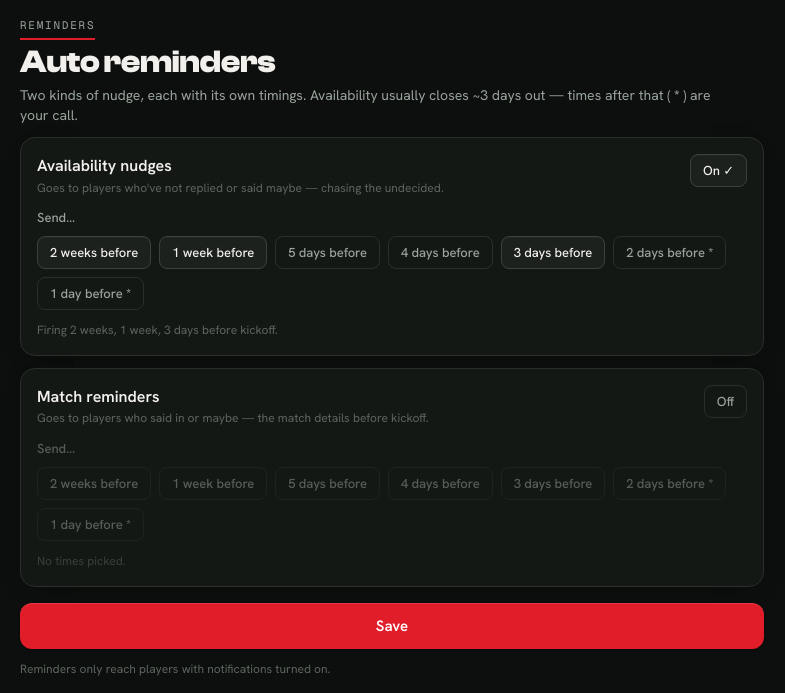
Test: Reminders page — independent periods per type › blocks saving a type that is on with no times
Click the button "Off" at (725, 402), box x1=704 y1=385 x2=747 y2=418
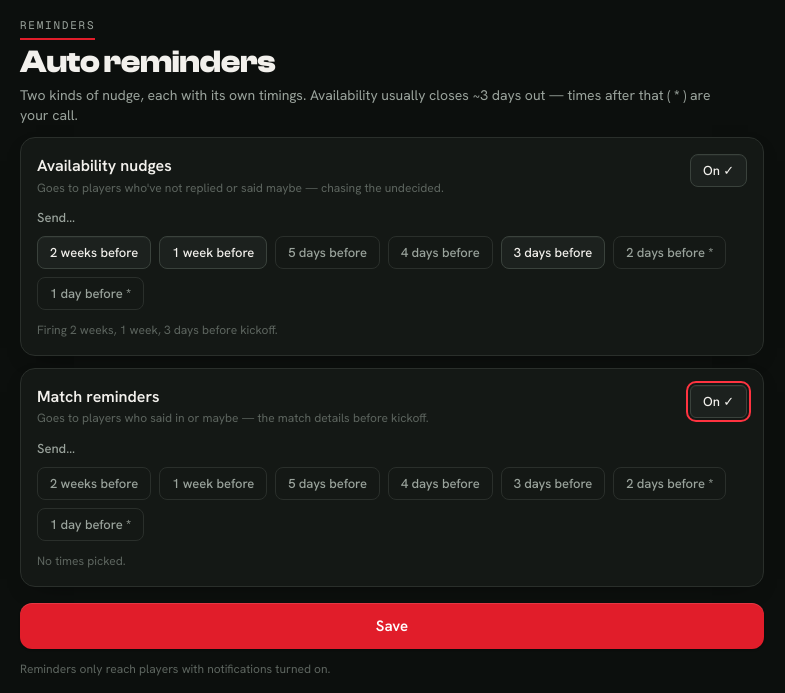
Click the button "Save" at (392, 626), box x1=20 y1=603 x2=764 y2=649
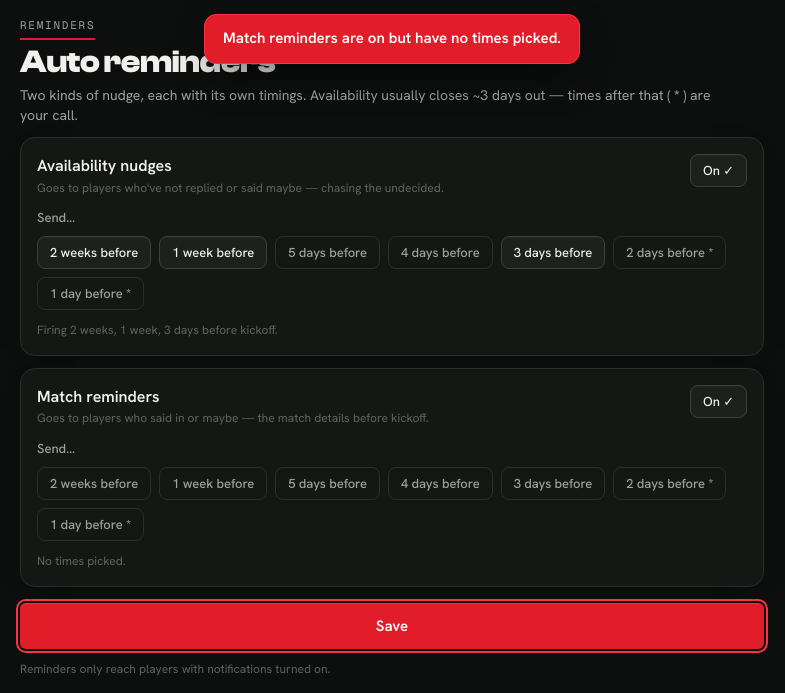
Expected: the message shows "Match reminders are on but have no times", x1=223 y1=28 x2=561 y2=48
